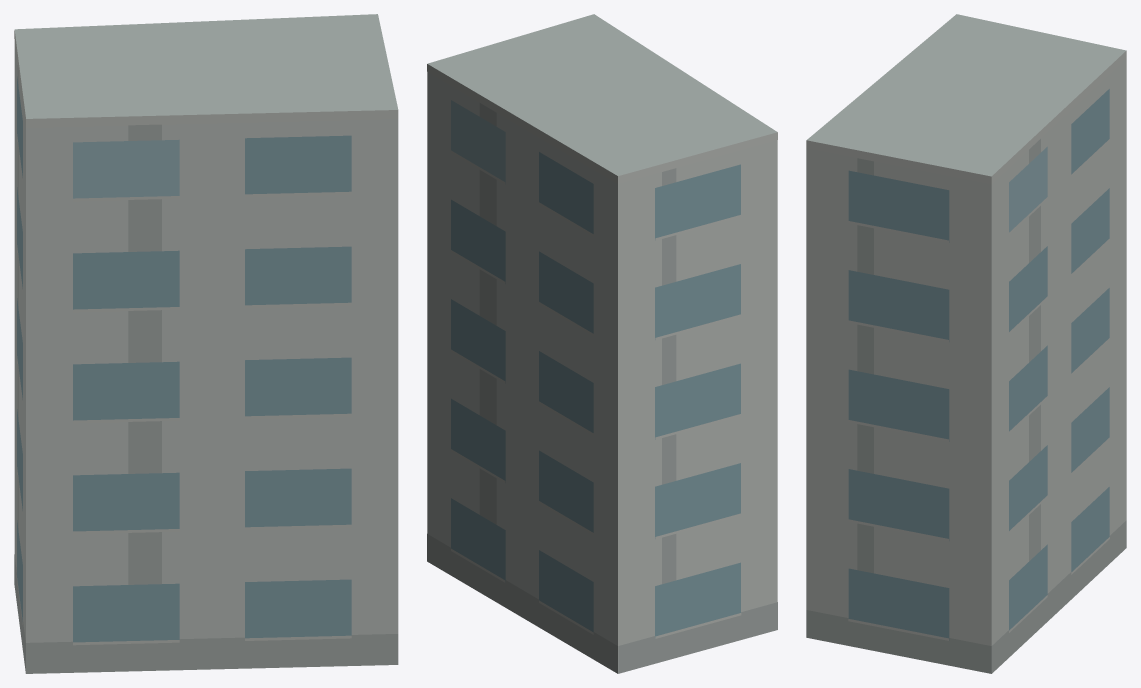
The model's file is survey-upis-32727004.glb.
The picture shows the model from 3 angles, left to right: view 1: azimuth 30°, elevation 25°; view 2: azimuth 150°, elevation 25°; view 3: azimuth 270°, elevation 25°; orthographic projection. The views are drawn at different scales.
Parts seen in each view (by area): view 1: survey-upis-32727004.tmp; view 2: survey-upis-32727004.tmp; view 3: survey-upis-32727004.tmp.
Boxes of the visible parts, x1=… form: survey-upis-32727004.tmp: x1=14, y1=14, x2=398, y2=673; survey-upis-32727004.tmp: x1=427, y1=14, x2=777, y2=673; survey-upis-32727004.tmp: x1=806, y1=14, x2=1126, y2=673.
Bounding box in the file's own units: 10.69 × 15.25 × 8.91.
